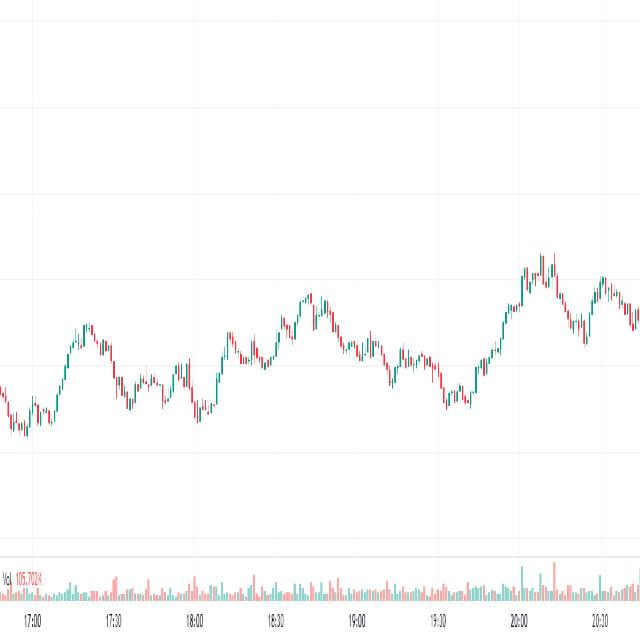Rounding-Top: (57, 316, 124, 398)
